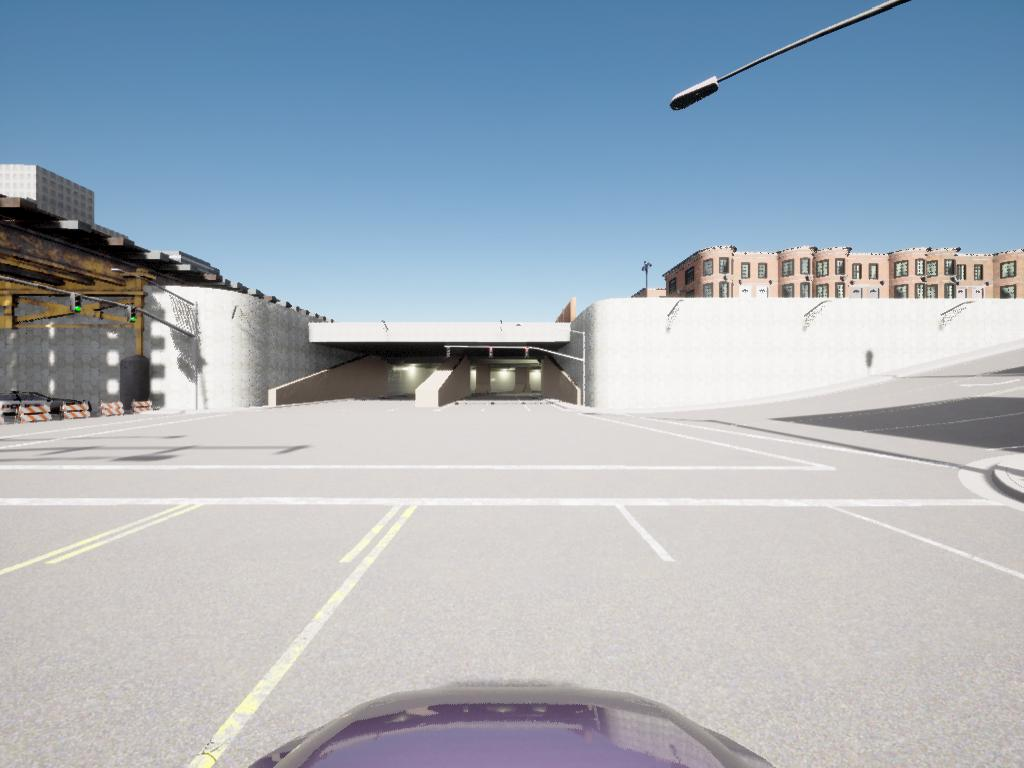traffic_light: (69, 292, 83, 317), (125, 305, 139, 325), (489, 347, 494, 360), (525, 347, 530, 359), (447, 348, 451, 358)
